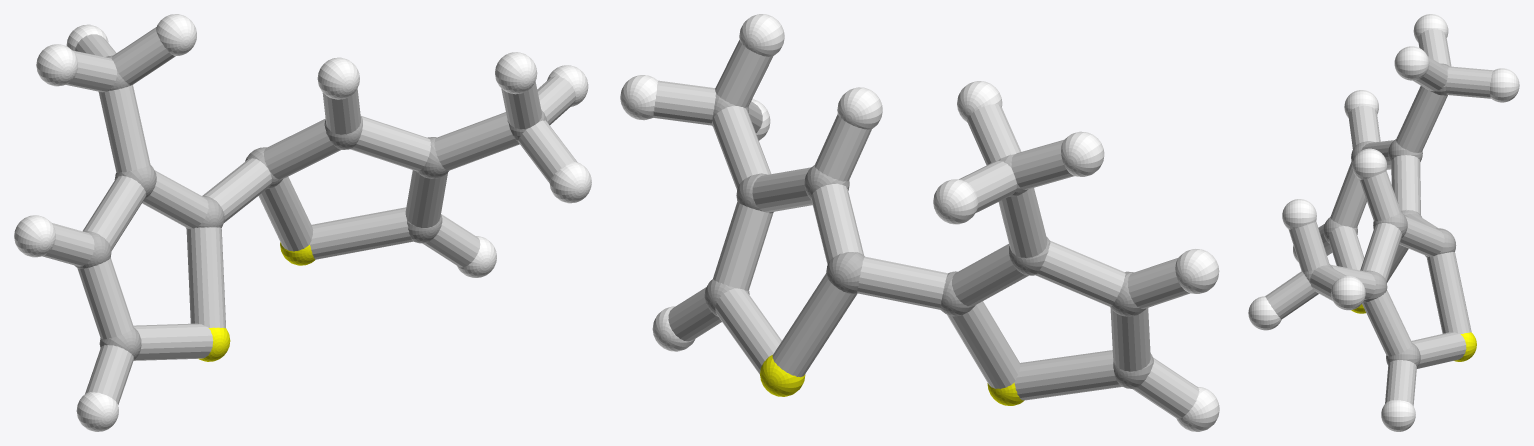
The model's file is Methylthiophene_Phi_50_Theta_230_Methylthiophene.glb.
The picture shows the model from 3 angles, left to right: view 1: azimuth 30°, elevation 25°; view 2: azimuth 150°, elevation 25°; view 3: azimuth 270°, elevation 25°; orthographic projection. The views are drawn at different scales.
Visible parts, largest first — view 1: grp7965, grp3621, grp1, grp7241; view 2: grp7965, grp3621, grp1, grp7241; view 3: grp7965, grp3621, grp1, grp7241.
Part boxes in pixels (x1=…): grp7965: x1=42, y1=27, x2=577, y2=404; grp3621: x1=14, y1=14, x2=591, y2=431; grp1: x1=74, y1=55, x2=546, y2=359; grp7241: x1=198, y1=242, x2=315, y2=361; grp7965: x1=653, y1=40, x2=1199, y2=418; grp3621: x1=620, y1=14, x2=1219, y2=431; grp1: x1=704, y1=93, x2=1153, y2=388; grp7241: x1=760, y1=355, x2=1024, y2=405; grp7965: x1=1265, y1=29, x2=1493, y2=405; grp3621: x1=1248, y1=14, x2=1519, y2=431; grp1: x1=1303, y1=63, x2=1456, y2=367; grp7241: x1=1351, y1=304, x2=1476, y2=361.
Size of the model in its own units: 9.16 by 5.22 by 4.69.
